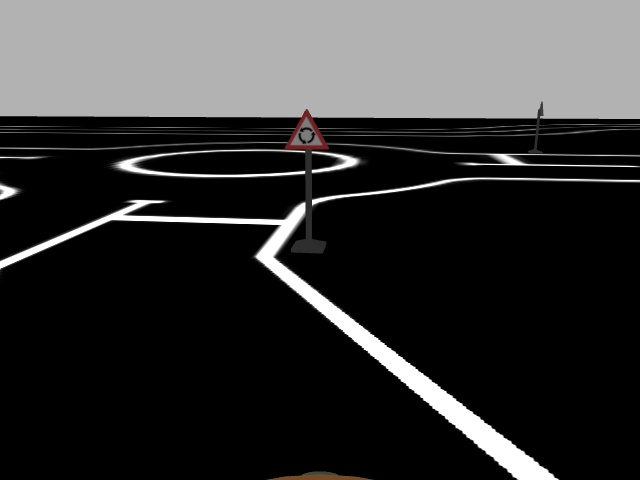roundabout: (283, 108, 331, 150)
